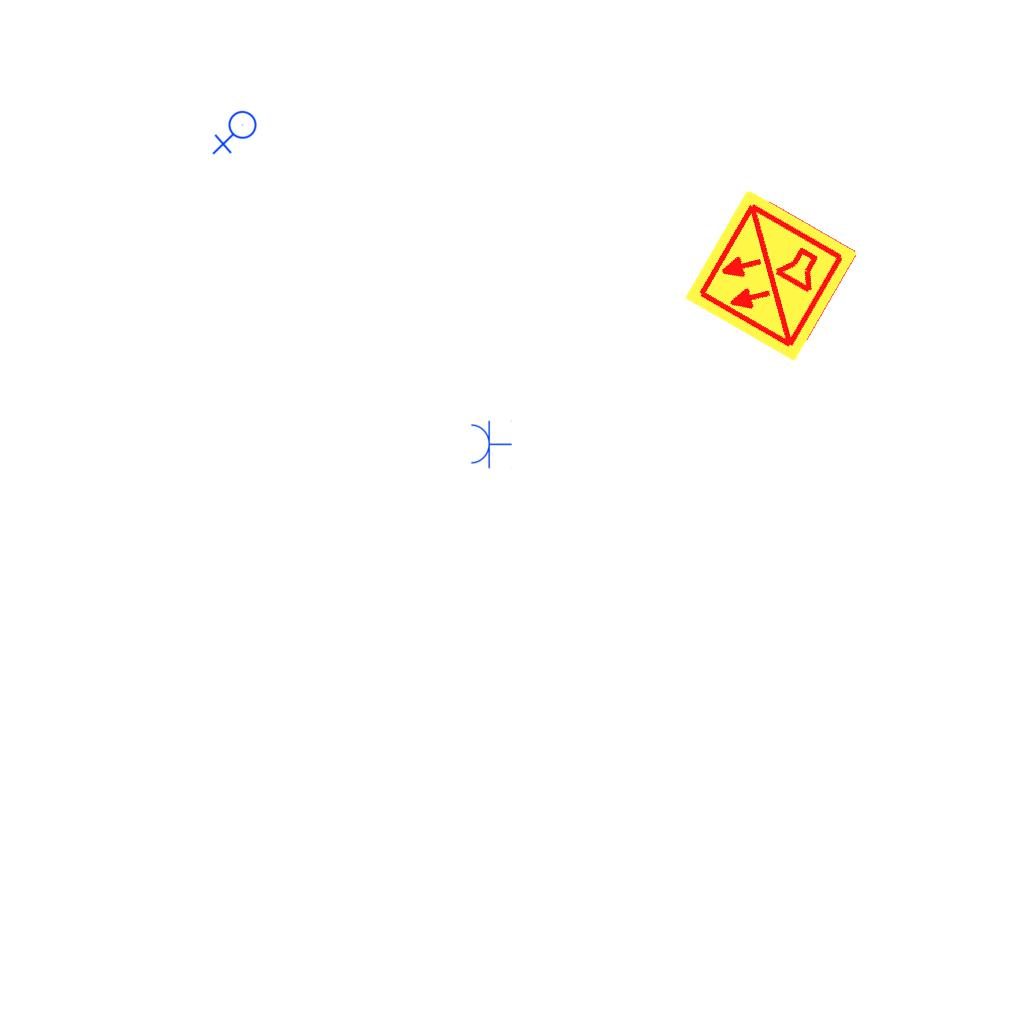Elektroanschluss_allgemein_230V_Geraeteanschlussdose_230V: (212, 110, 261, 157)
OKW_Multisensormelder_(Kombination_optischer_Rauch-Kahlenmonoxid_Waerme-Melder): (680, 184, 862, 366)
Schukosteckdose_einfach: (469, 419, 512, 469)
